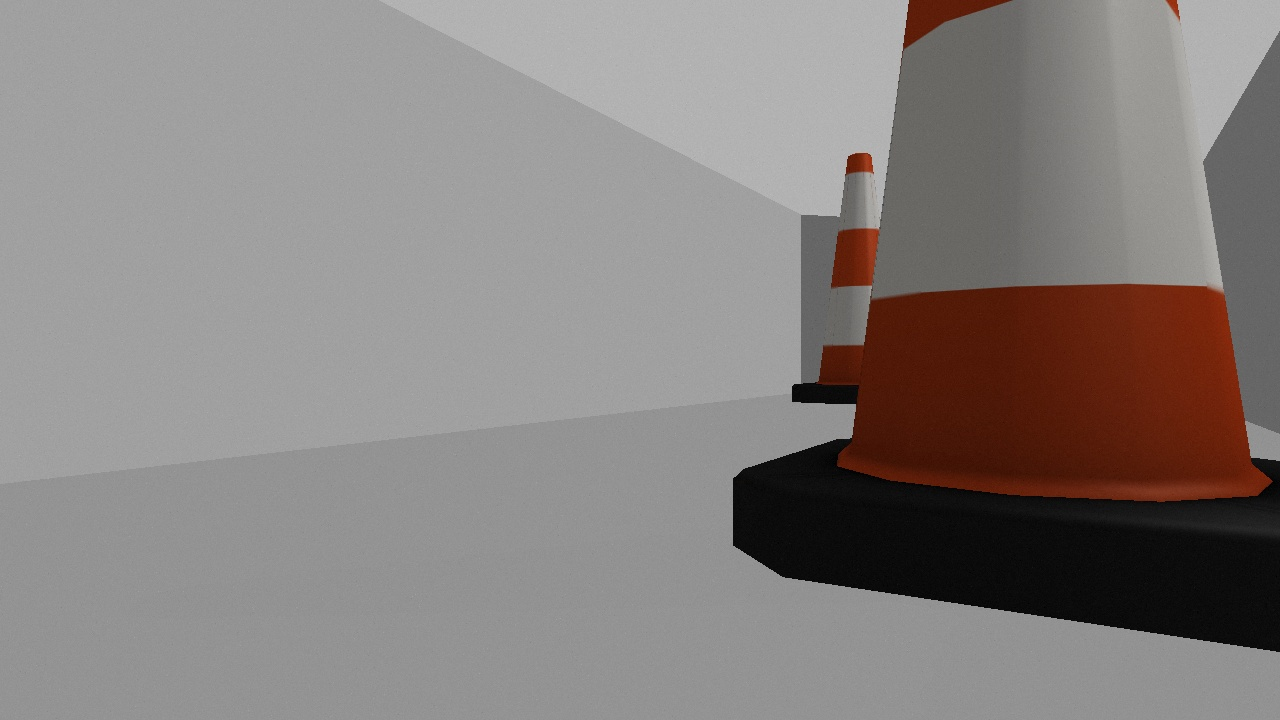barricade: (733, 1, 1280, 657), (790, 150, 921, 405)
